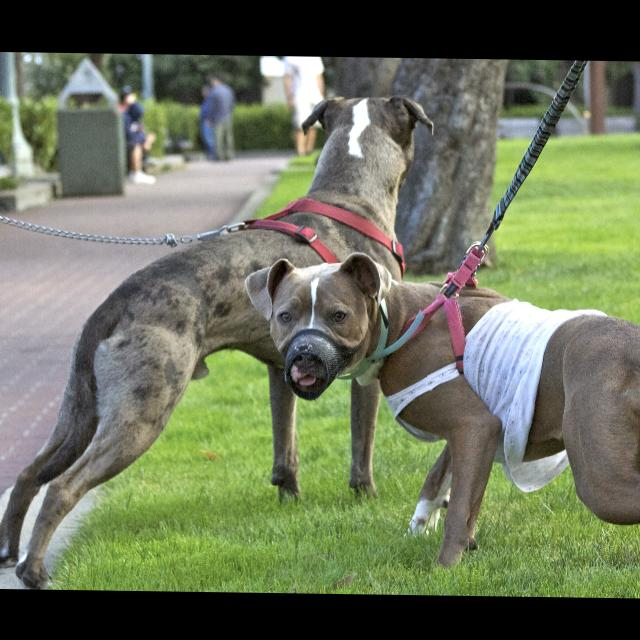am_pit_bull_terrier: (1, 89, 437, 595), (246, 249, 640, 571)
